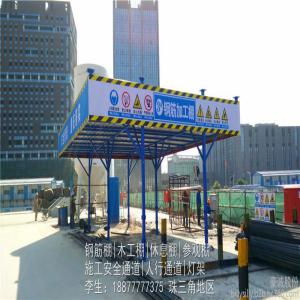white: (199, 186, 203, 193), (36, 193, 39, 200), (72, 192, 75, 199)
yellow: (208, 199, 212, 207)
